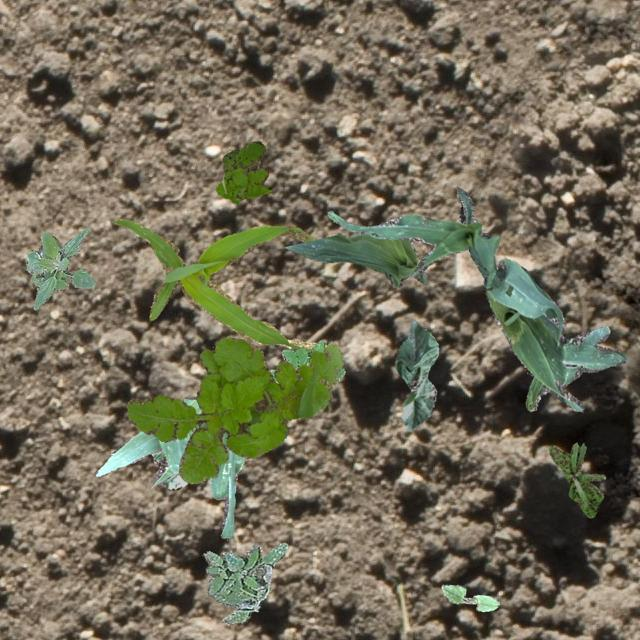crop: (458, 202, 626, 410), (114, 218, 326, 352), (94, 396, 244, 536), (327, 186, 498, 288), (284, 232, 426, 286), (24, 226, 94, 308), (394, 320, 438, 430), (441, 584, 498, 610), (150, 450, 187, 488)
weed: (125, 336, 342, 482), (202, 542, 286, 624), (548, 442, 604, 516), (214, 140, 270, 202), (268, 339, 344, 384)
